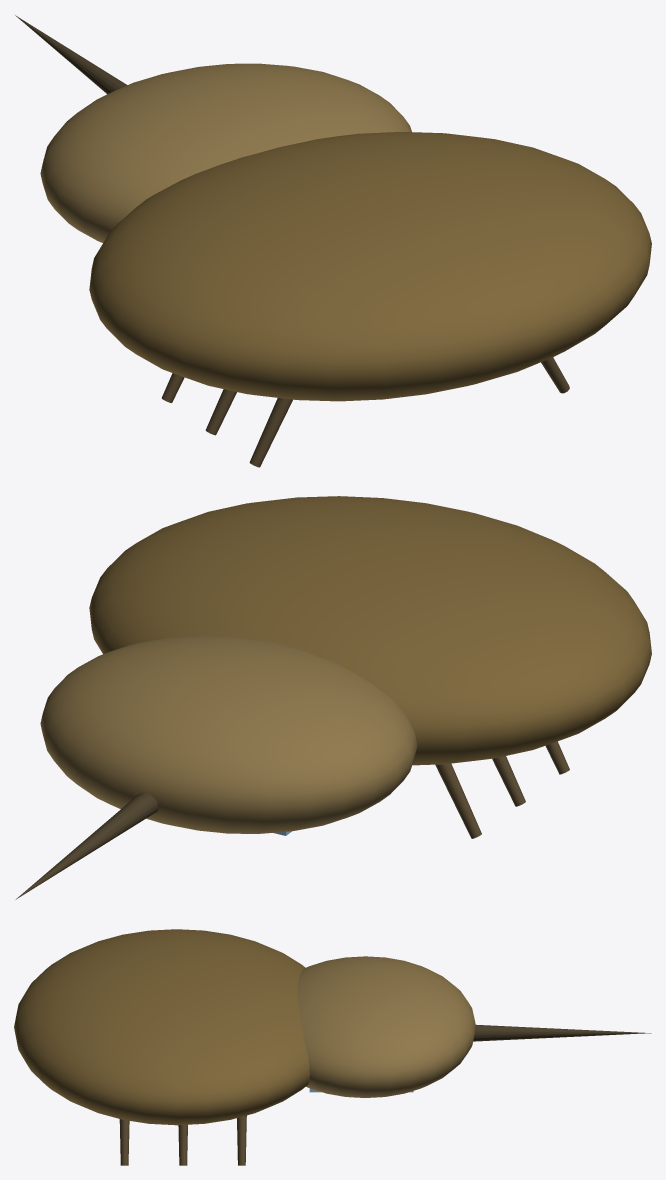
Rendered from tachypleus_anatomy_sample.glb.
3 views of the same model, one above another, from view 1: azimuth 30°, elevation 25°; view 2: azimuth 150°, elevation 25°; view 3: azimuth 270°, elevation 25° (orthographic). The views are drawn at different scales.
Visible parts, largest first — view 1: prosoma_carapace, opisthosoma_carapace, telson, leg_1; view 2: prosoma_carapace, opisthosoma_carapace, telson, leg_3, leg_2; view 3: prosoma_carapace, opisthosoma_carapace, telson, leg_6, leg_4, leg_5.
Part boxes in pixels (left/top/right/bottom): prosoma_carapace: left=89, top=132, right=651, bottom=401; opisthosoma_carapace: left=40, top=63, right=411, bottom=242; telson: left=15, top=15, right=127, bottom=94; leg_1: left=249, top=398, right=292, bottom=467; prosoma_carapace: left=89, top=496, right=651, bottom=765; opisthosoma_carapace: left=40, top=635, right=417, bottom=833; telson: left=15, top=792, right=158, bottom=899; leg_3: left=435, top=763, right=481, bottom=838; leg_2: left=492, top=756, right=525, bottom=806; prosoma_carapace: left=14, top=929, right=309, bottom=1125; opisthosoma_carapace: left=297, top=956, right=475, bottom=1097; telson: left=473, top=1024, right=651, bottom=1041; leg_6: left=237, top=1115, right=246, bottom=1165; leg_4: left=119, top=1119, right=129, bottom=1165; leg_5: left=178, top=1124, right=187, bottom=1165.
Size of the model in its own units: 3 by 1.21 by 4.9.
